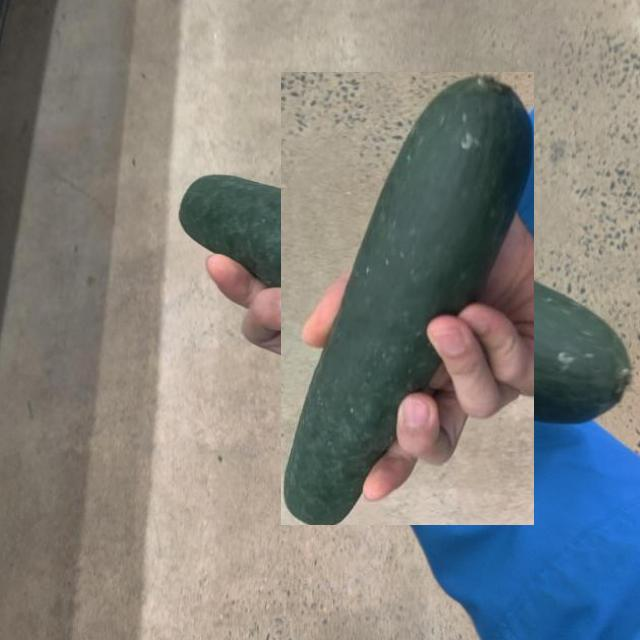Cucumber: (281, 71, 534, 525)
